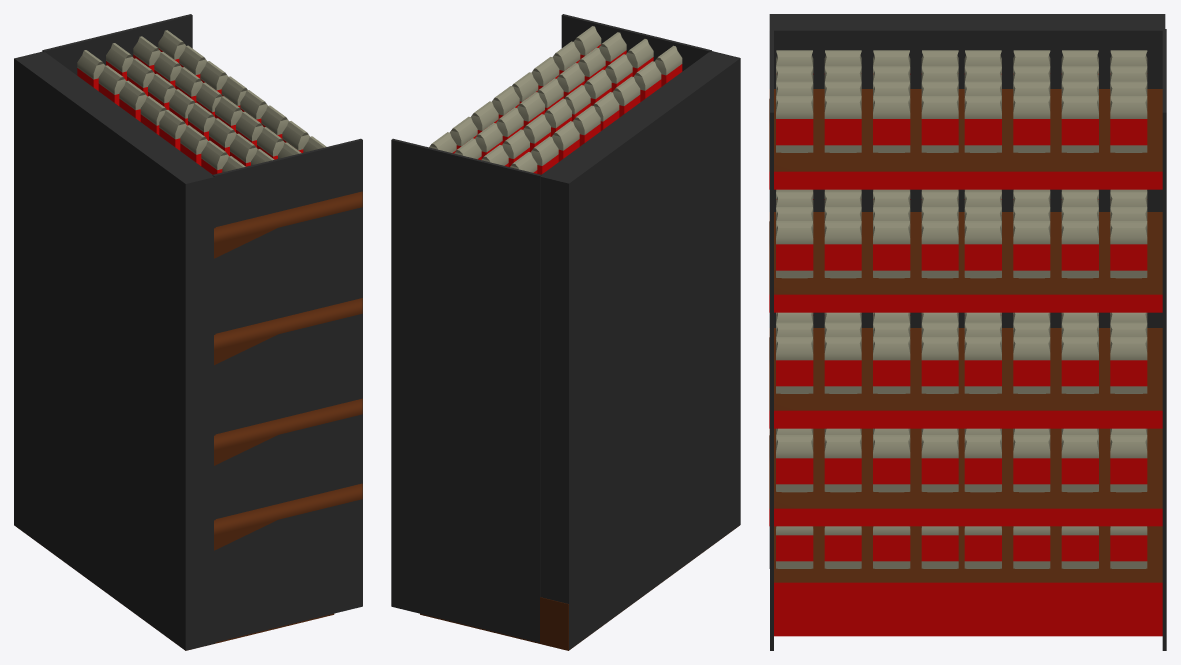
File: sugar_red_shelf.fbx
3 views of the same model, side by side, from view 1: azimuth 30°, elevation 25°; view 2: azimuth 150°, elevation 25°; view 3: azimuth 270°, elevation 25° (orthographic). The views are drawn at different scales.
Parts seen in each view (by area): view 1: pCube2, pCube7, pCube4, pCube5, pCube6, pCube3, pCube46, sugar_red27, sugar_red31, sugar_red41, sugar_red30, sugar_red43 (+22 smaller); view 2: pCube2, pCube46, pCube7, pCube1, sugar_red28, sugar_red40, sugar_red30, sugar_red29, sugar_red27, sugar_red43, sugar_red31, sugar_red45 (+19 smaller); view 3: pCube1, pCube2, pCube6, pCube4, pCube5, pCube3, pCube46, pCube7, sugar_red3, sugar_red114, sugar_red, sugar_red154 (+76 smaller).
Boxes of the visible parts, x1,y1,x2,y2 form: pCube2: [14, 51, 215, 650]; pCube7: [212, 138, 362, 642]; pCube4: [214, 398, 362, 465]; pCube5: [214, 298, 362, 365]; pCube6: [214, 191, 362, 258]; pCube3: [214, 483, 362, 550]; pCube46: [42, 14, 192, 75]; sugar_red27: [119, 80, 147, 121]; sugar_red31: [159, 110, 186, 150]; sugar_red41: [77, 50, 104, 90]; sugar_red30: [180, 125, 207, 165]; sugar_red43: [98, 65, 125, 105]; pCube2: [540, 51, 740, 649]; pCube46: [391, 138, 541, 642]; pCube7: [561, 14, 711, 71]; pCube1: [420, 525, 739, 650]; sugar_red28: [633, 61, 661, 101]; sugar_red40: [573, 105, 600, 146]; sugar_red30: [612, 76, 640, 117]; sugar_red29: [654, 45, 682, 86]; sugar_red27: [552, 121, 579, 161]; sugar_red43: [531, 136, 558, 174]; sugar_red31: [593, 92, 619, 130]; sugar_red45: [626, 39, 653, 76]; pCube1: [774, 526, 1162, 636]; pCube2: [769, 14, 1165, 568]; pCube6: [769, 89, 1162, 189]; pCube4: [769, 328, 1162, 428]; pCube5: [769, 212, 1162, 312]; pCube3: [769, 428, 1162, 526]; pCube46: [1162, 29, 1166, 650]; pCube7: [770, 29, 773, 650]; sugar_red3: [1013, 221, 1050, 278]; sugar_red114: [1013, 435, 1050, 492]; sugar_red: [1110, 435, 1147, 492]; sugar_red154: [1110, 221, 1147, 278].
Bounding box in the file's own units: 0.5983 × 1.51 × 1.01.
